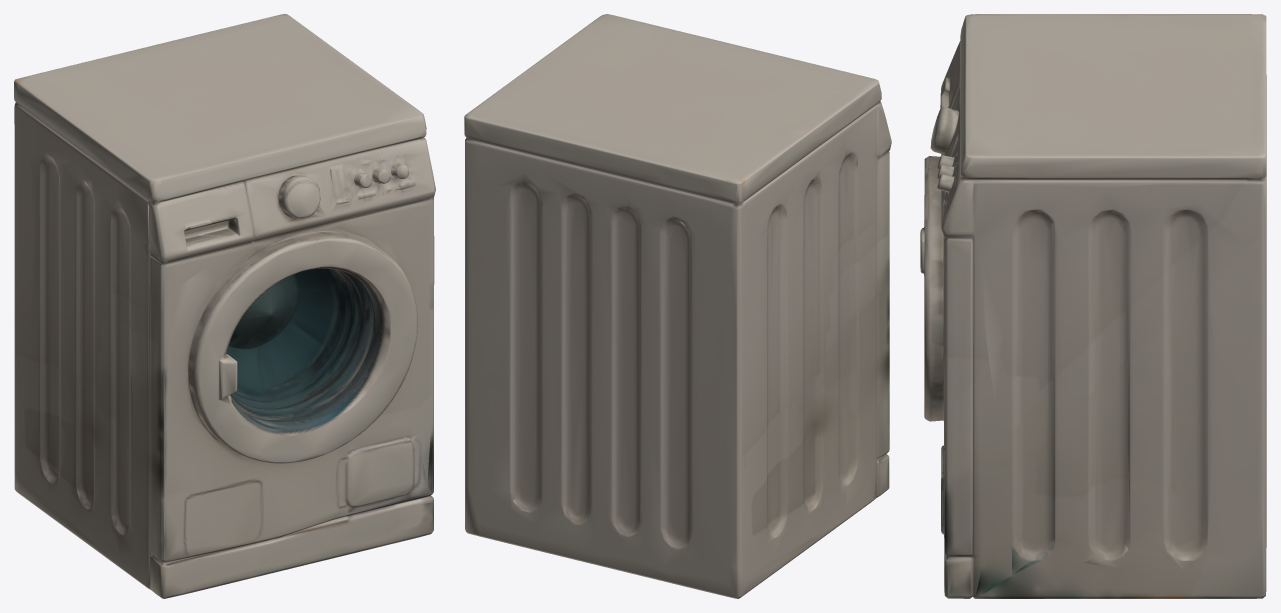
Rendered from washing machine.fbx.
The picture shows the model from 3 angles, left to right: view 1: azimuth 30°, elevation 25°; view 2: azimuth 150°, elevation 25°; view 3: azimuth 270°, elevation 25°; orthographic projection. The views are drawn at different scales.
Visible parts, largest first — view 1: node_0.002; view 2: node_0.002; view 3: node_0.002.
Boxes of the visible parts, x1,y1,x2,y2 form: node_0.002: (14, 14, 435, 598); node_0.002: (464, 14, 891, 598); node_0.002: (920, 14, 1266, 598).
Bounding box in the file's own units: 0.2523 × 0.3624 × 0.2561.
Materials: 1 (1 with a texture image).
